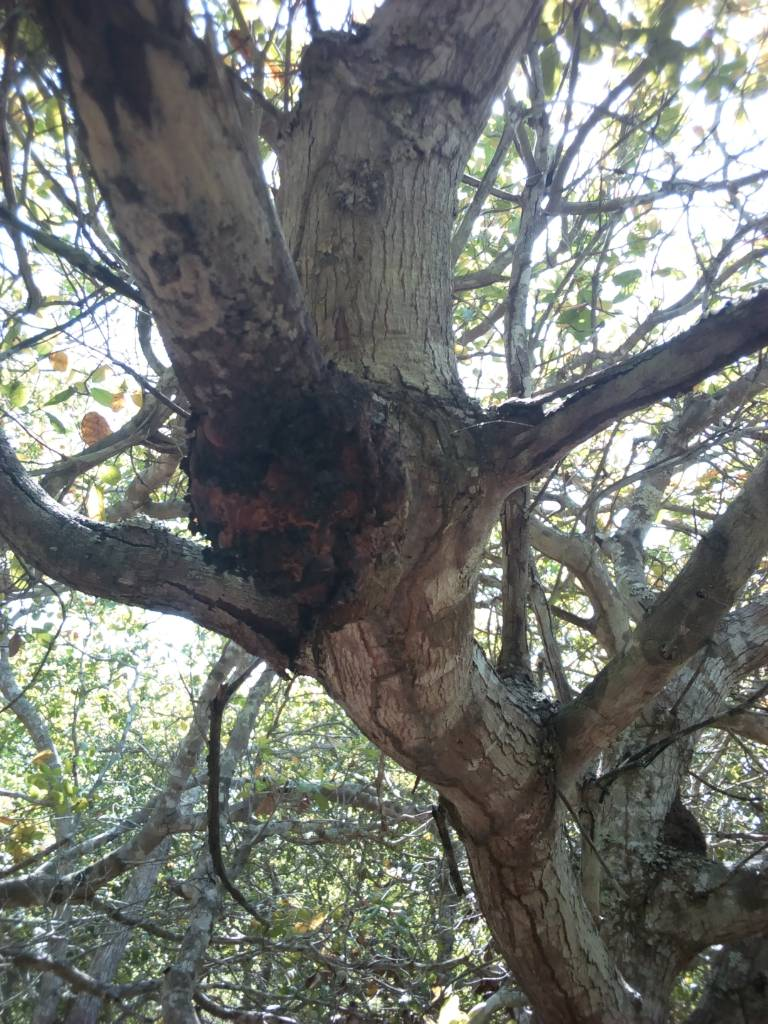Termites: (75, 21, 310, 361), (341, 30, 494, 175), (386, 639, 504, 824), (427, 477, 458, 592)
